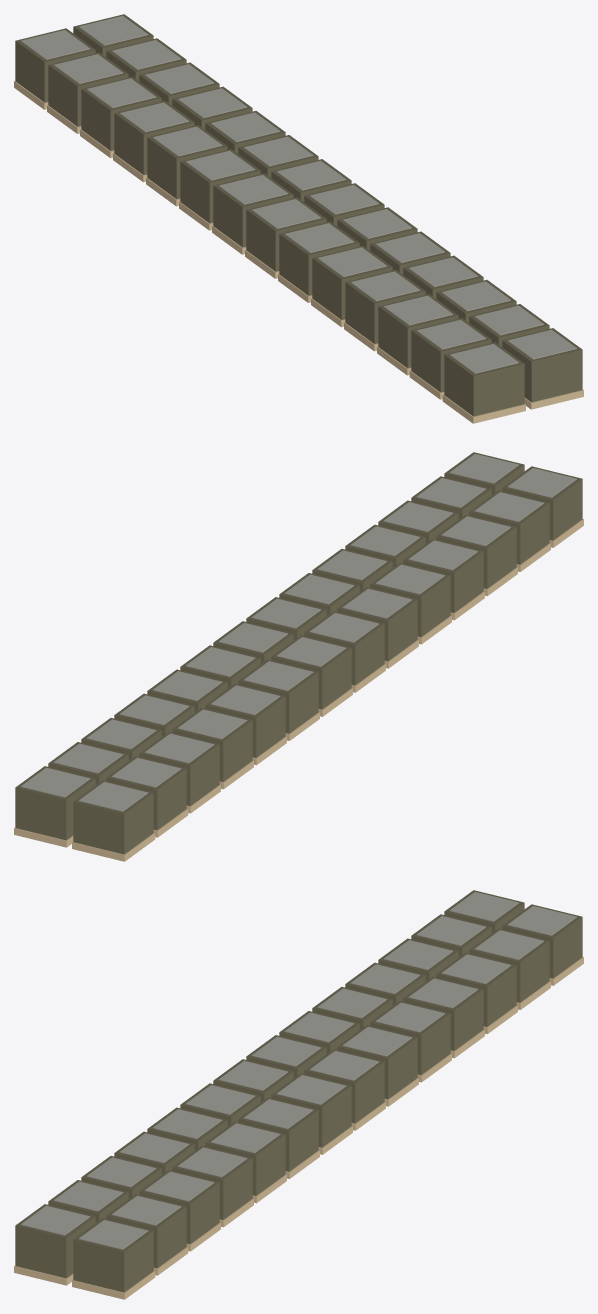
The model's file is SM_CargaCombustible_Lleno_LOD1.fbx.
3 renders of one model, top to bottom at view 1: azimuth 30°, elevation 25°; view 2: azimuth 150°, elevation 25°; view 3: azimuth 330°, elevation 25°, orthographic.
Parts seen in each view (by area): view 1: SM_carga_vagon_v5_LOD1; view 2: SM_carga_vagon_v5_LOD1; view 3: SM_carga_vagon_v5_LOD1.
Boxes of the visible parts, x1,y1,x2,y2 form: SM_carga_vagon_v5_LOD1: [14, 14, 583, 423]; SM_carga_vagon_v5_LOD1: [14, 452, 583, 861]; SM_carga_vagon_v5_LOD1: [14, 890, 583, 1299].
Size of the model in its own units: 2.52 by 1.04 by 18.1.
